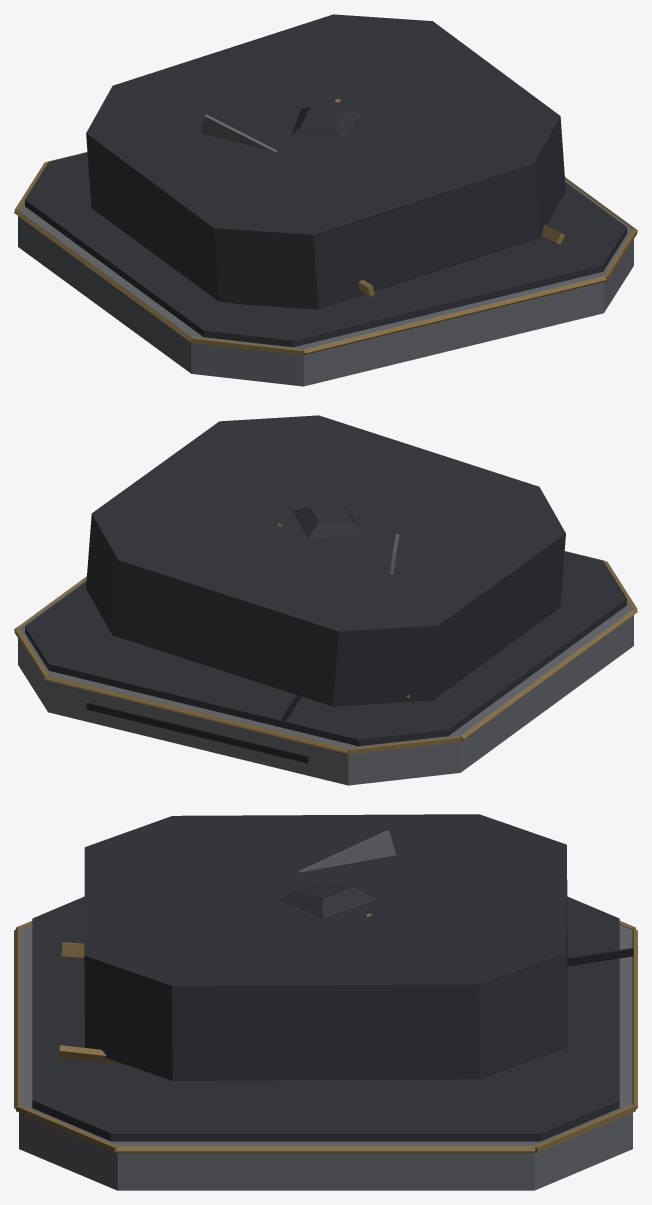
Rendered from Wreck_Aegis_TechCenter.fbx.
3 views of the same model, one above another, from view 1: azimuth 30°, elevation 25°; view 2: azimuth 150°, elevation 25°; view 3: azimuth 270°, elevation 25° (orthographic). The views are drawn at different scales.
Visible parts, largest first — view 1: Wreck_Aegis_TechCenter; view 2: Wreck_Aegis_TechCenter; view 3: Wreck_Aegis_TechCenter.
Part boxes in pixels (bbox=[...]): Wreck_Aegis_TechCenter: bbox=[14, 14, 637, 386]; Wreck_Aegis_TechCenter: bbox=[14, 415, 637, 785]; Wreck_Aegis_TechCenter: bbox=[14, 814, 637, 1190].
Size of the model in its own units: 2.85 by 0.8893 by 2.85.
